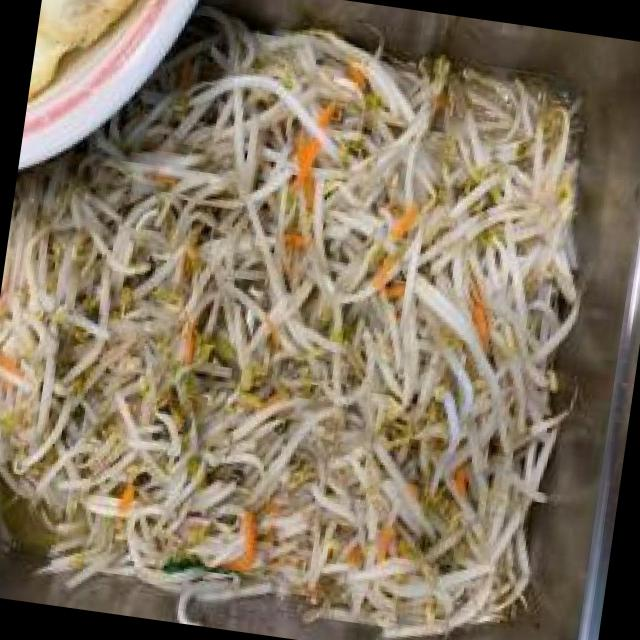mung_bean_sprouts: (0, 30, 590, 640)
